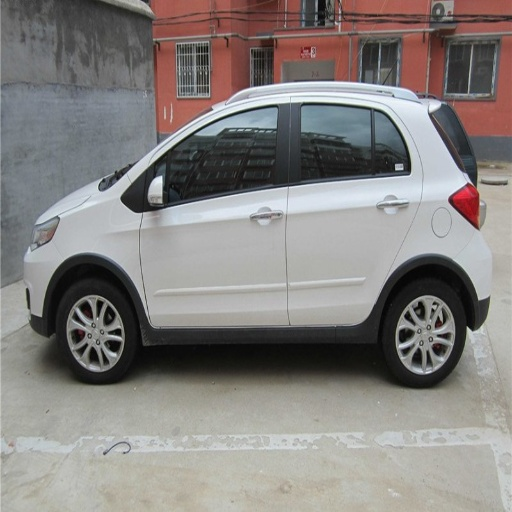back_glass: (431, 106, 477, 170)
back_left_door: (288, 95, 420, 324)
front_left_door: (140, 96, 289, 326)
